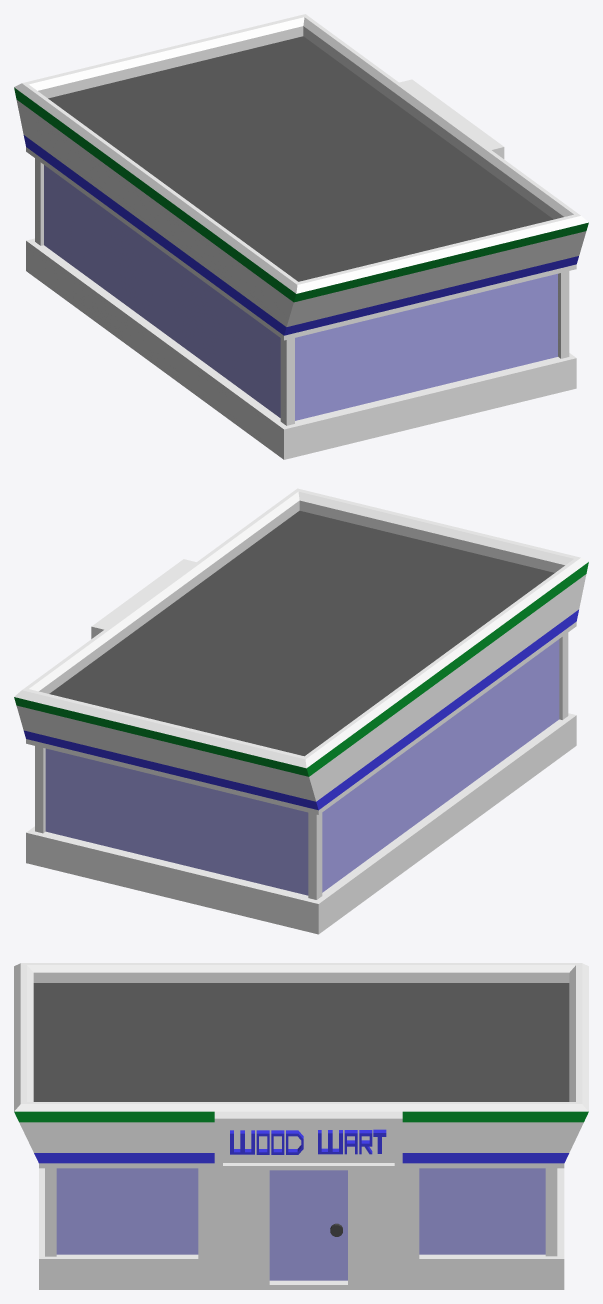
File: Wood Wart.FBX
3 views of the same model, one above another, from view 1: azimuth 30°, elevation 25°; view 2: azimuth 150°, elevation 25°; view 3: azimuth 270°, elevation 25° (orthographic).
Parts seen in each view (by area): view 1: Wood Wart; view 2: Wood Wart; view 3: Wood Wart.
Boxes of the visible parts, x1,y1,x2,y2 form: Wood Wart: (14,14,588,459); Wood Wart: (14,488,588,934); Wood Wart: (14,963,588,1289).
Size of the model in its own units: 289 by 162 by 461.
Materials: 1 (1 with a texture image).
